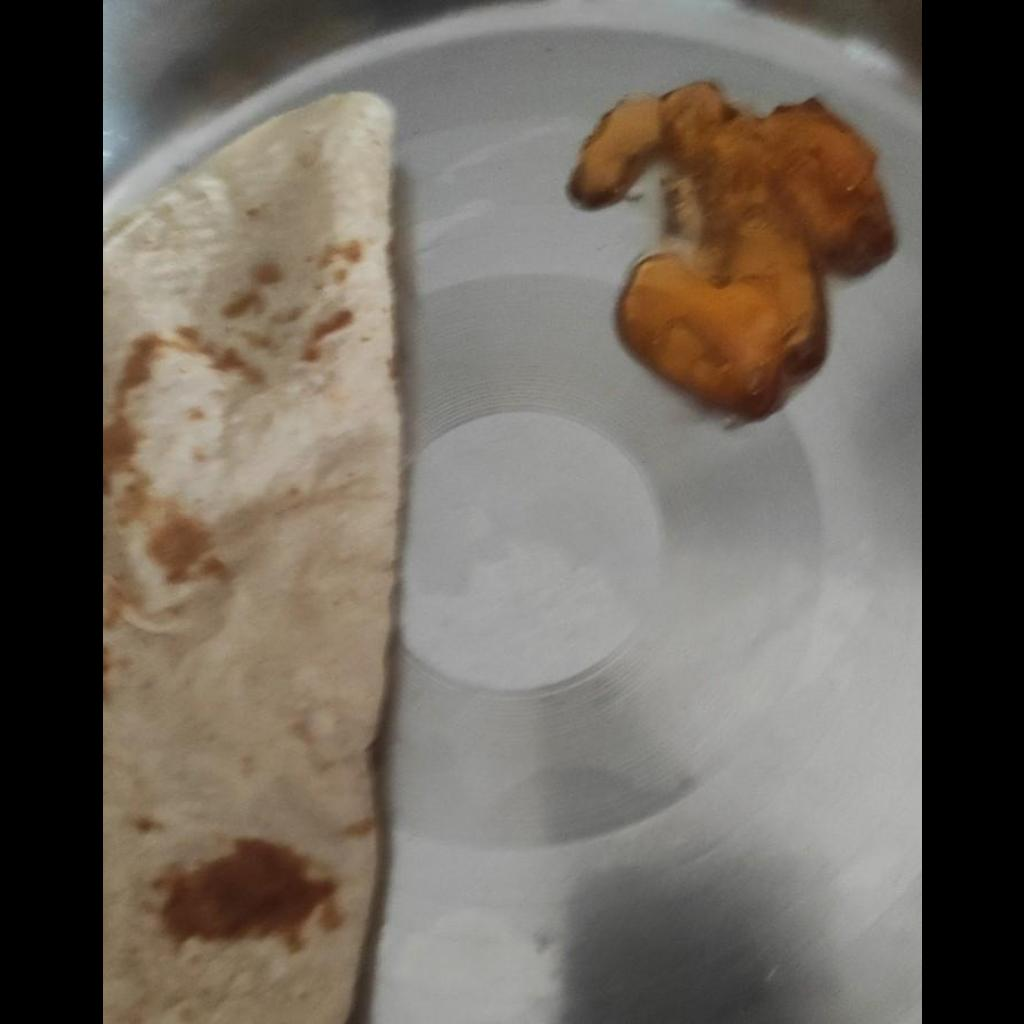chicken: (578, 77, 900, 424)
ruti: (107, 94, 401, 1020)
